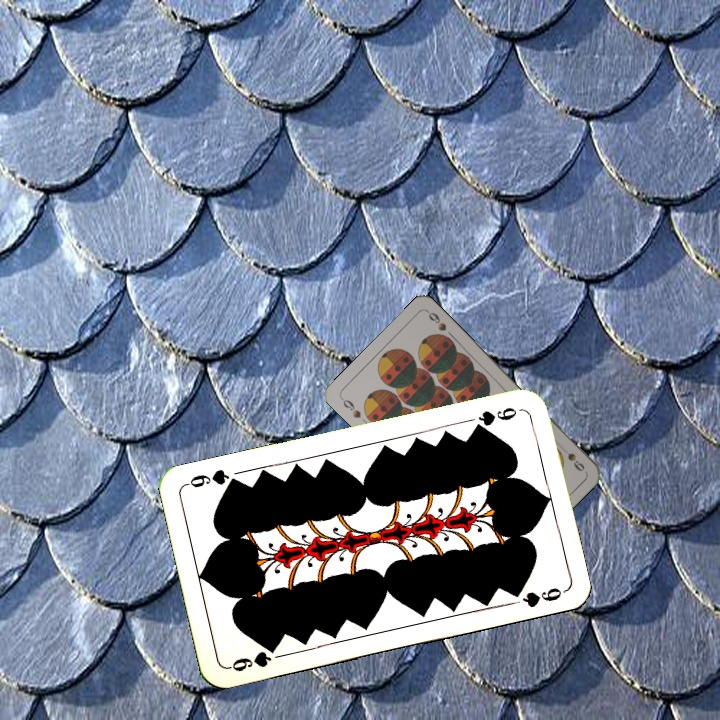G9: (224, 641, 280, 675), (469, 403, 520, 433)
S9: (555, 441, 587, 474), (337, 394, 363, 421)
